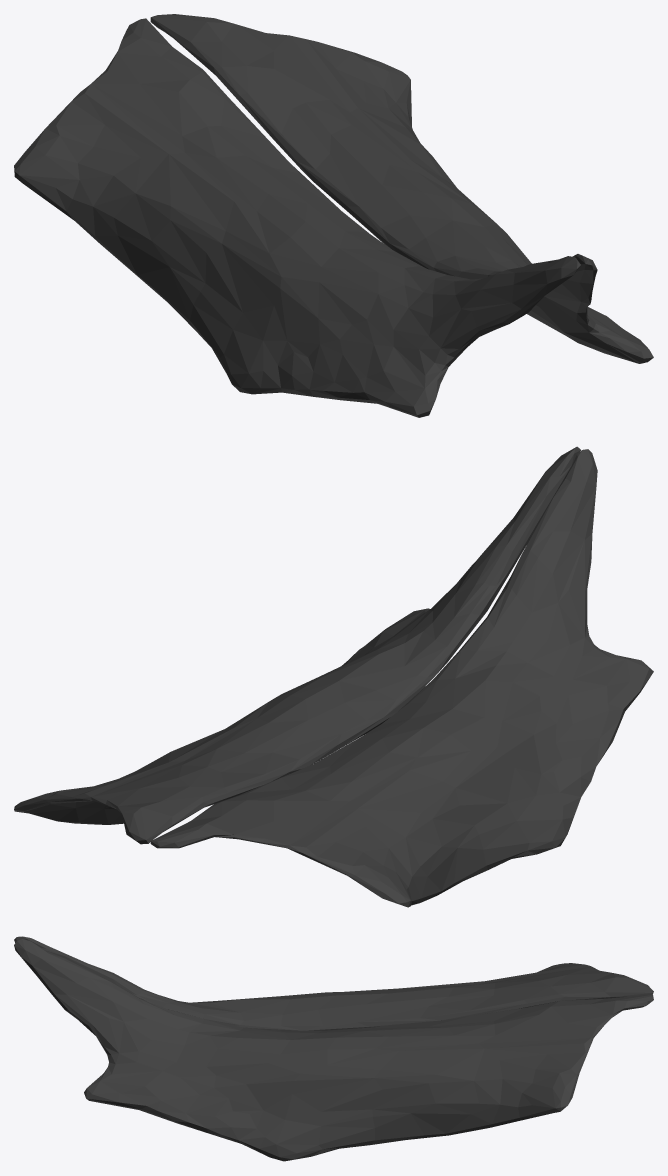
The model's file is fascia_thoracolumbar.glb.
The picture shows the model from 3 angles, top to bottom: view 1: azimuth 30°, elevation 25°; view 2: azimuth 150°, elevation 25°; view 3: azimuth 270°, elevation 25°; orthographic projection. The views are drawn at different scales.
Visible parts, largest first — view 1: fascia_thoracolumbar; view 2: fascia_thoracolumbar; view 3: fascia_thoracolumbar.
Part boxes in pixels (x1,y1,x2,y2): fascia_thoracolumbar: [14, 14, 653, 417]; fascia_thoracolumbar: [14, 446, 653, 907]; fascia_thoracolumbar: [14, 936, 653, 1161].
Size of the model in its own units: 0.00709 by 0.00391 by 0.0136.
1 material, 1 textured.
